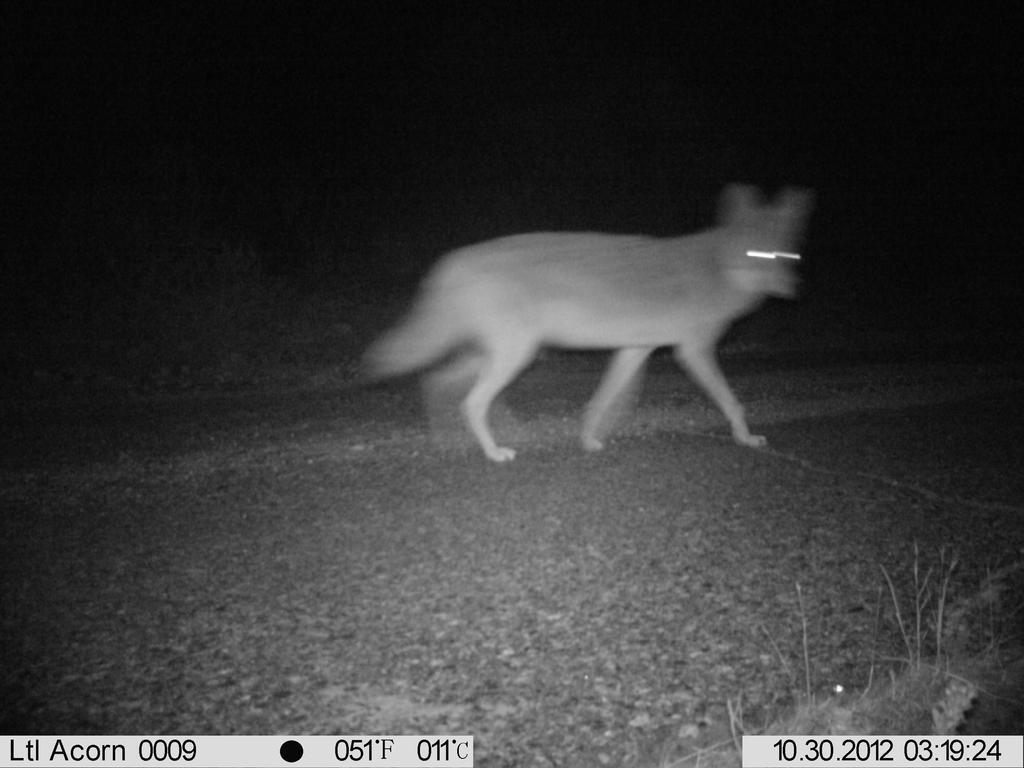coyote: (369, 178, 822, 470)
